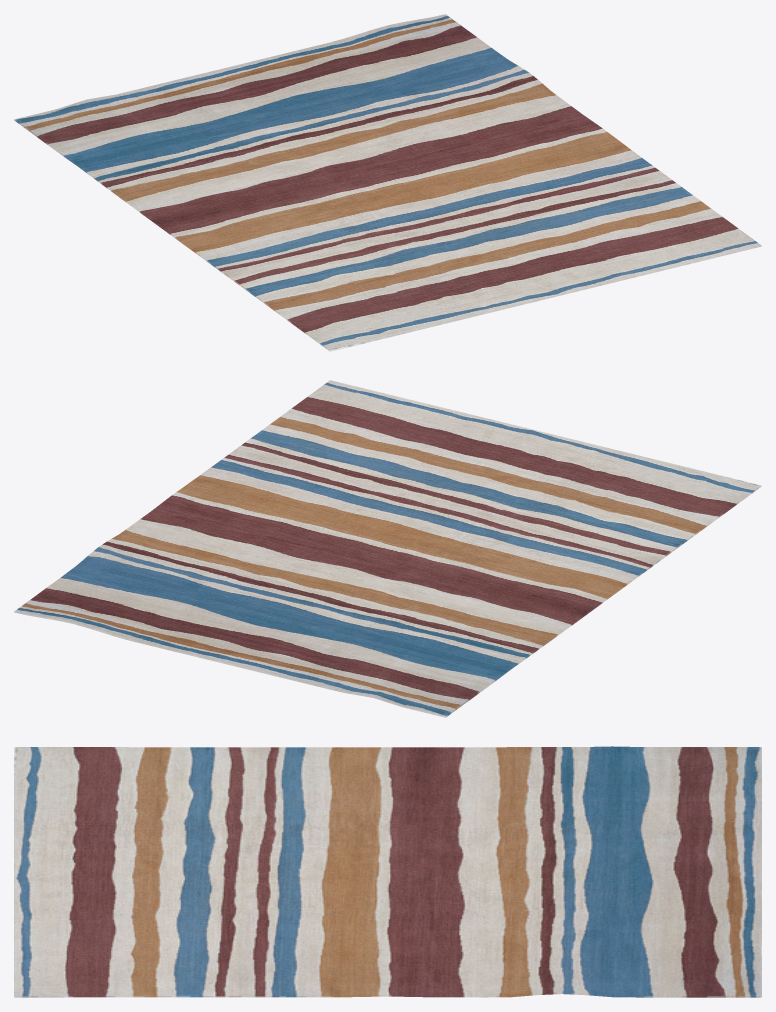
The model's file is Carpet.FBX.
3 views of the same model, one above another, from view 1: azimuth 30°, elevation 25°; view 2: azimuth 150°, elevation 25°; view 3: azimuth 270°, elevation 25° (orthographic). The views are drawn at different scales.
Visible parts, largest first — view 1: carpet; view 2: carpet; view 3: carpet.
Part boxes in pixels (x1,y1,x2,y2): carpet: [14, 14, 761, 351]; carpet: [14, 380, 761, 717]; carpet: [14, 746, 761, 997].
Size of the model in its own units: 185 by 235 by 1.82.
Materials: 1 (1 with a texture image).
